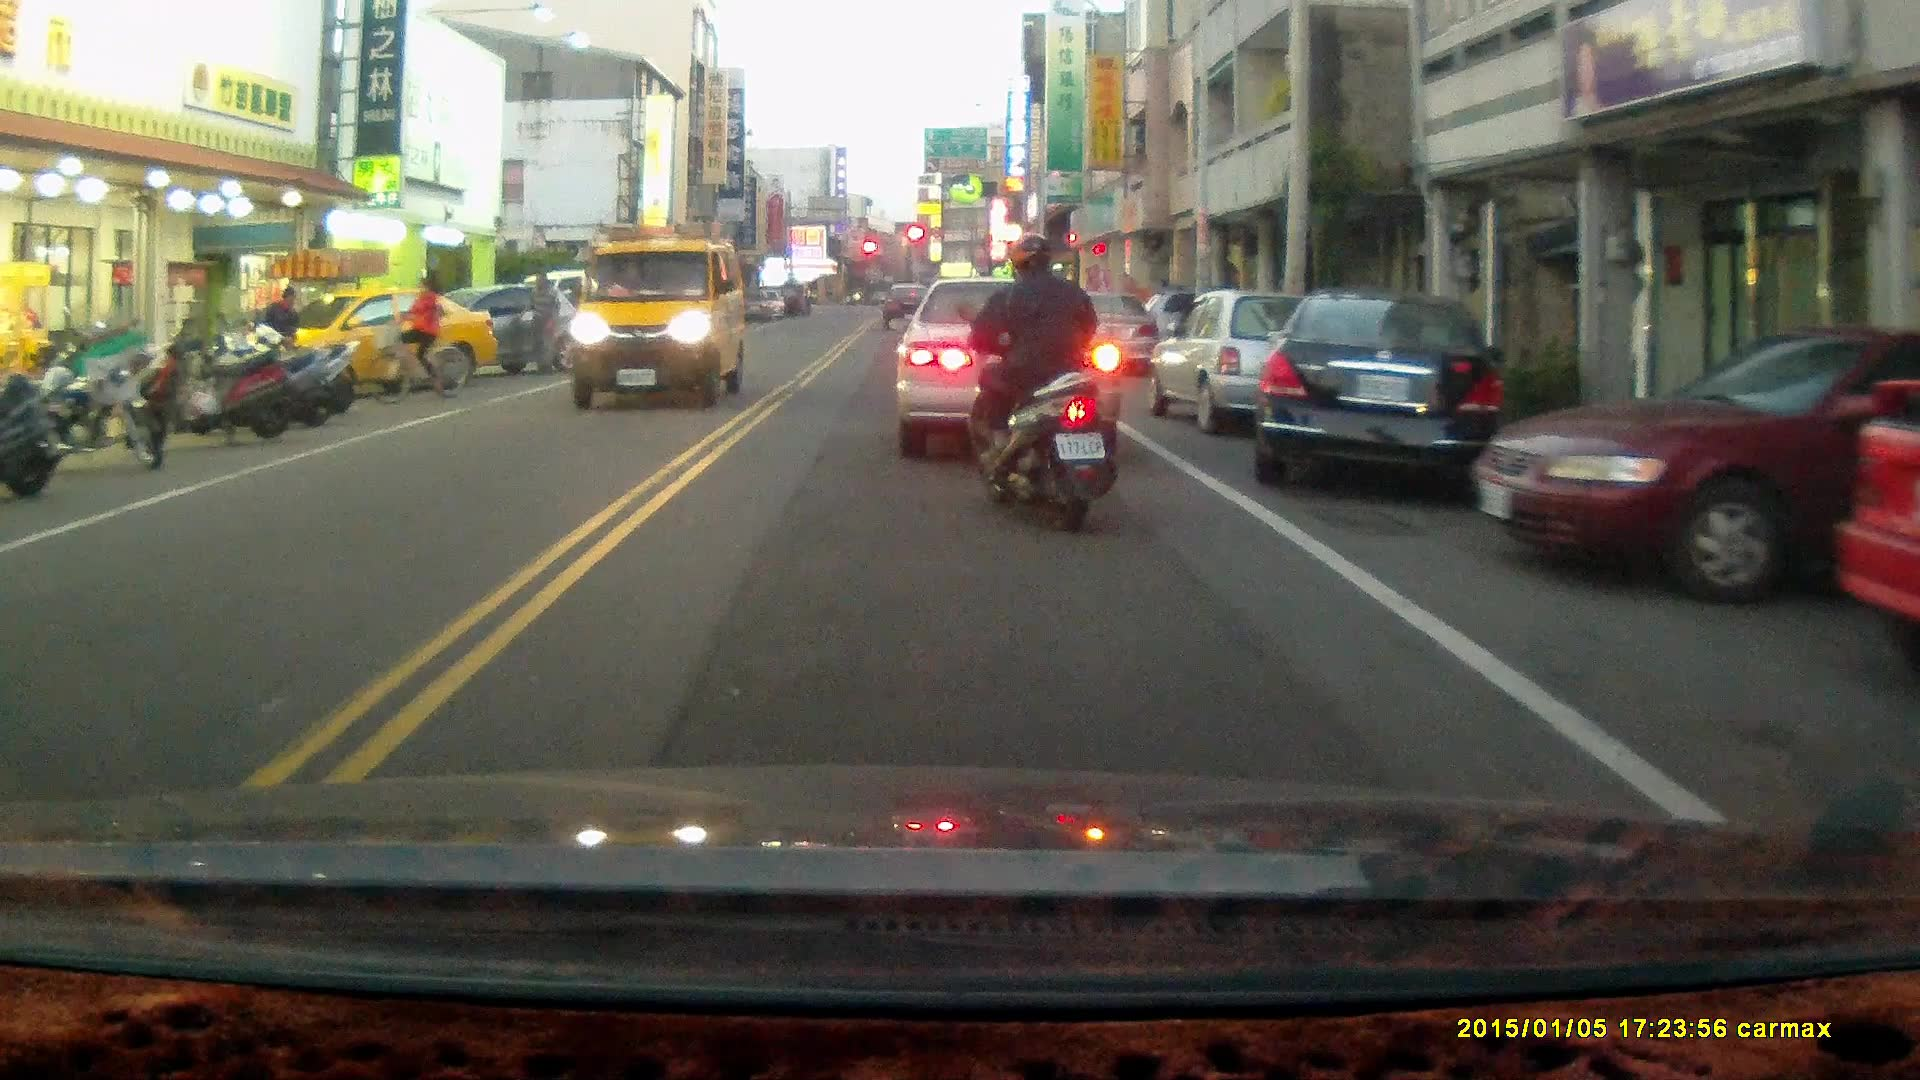pedestrian: (522, 268, 560, 373), (260, 283, 301, 377)
rider: (956, 230, 1118, 537), (366, 274, 469, 406)
vehicle: (1478, 322, 1920, 610), (1259, 286, 1515, 499), (902, 268, 1133, 449), (567, 223, 747, 408), (1142, 287, 1358, 438), (1834, 362, 1920, 676), (284, 288, 500, 393)
